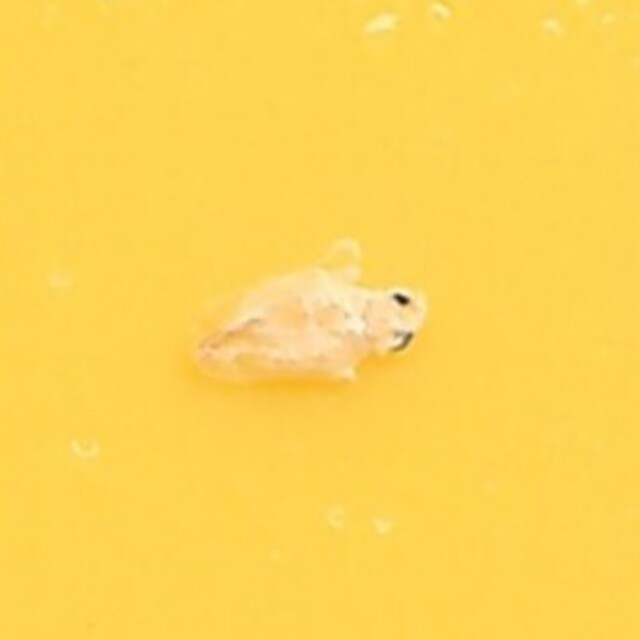Hemiptera: (204, 253, 436, 387)
